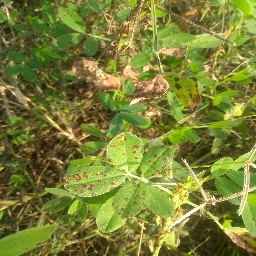GroundNut_Leaf: (1, 221, 60, 252), (65, 167, 126, 196), (140, 179, 177, 220), (104, 130, 145, 166), (4, 51, 40, 83), (107, 110, 152, 129), (58, 6, 87, 33), (157, 31, 196, 50), (209, 153, 235, 178)
